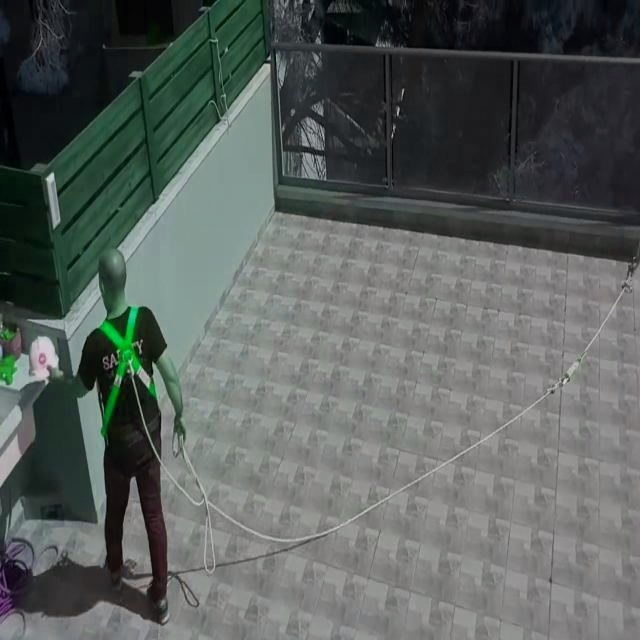safety belt: (79, 322, 179, 449)
